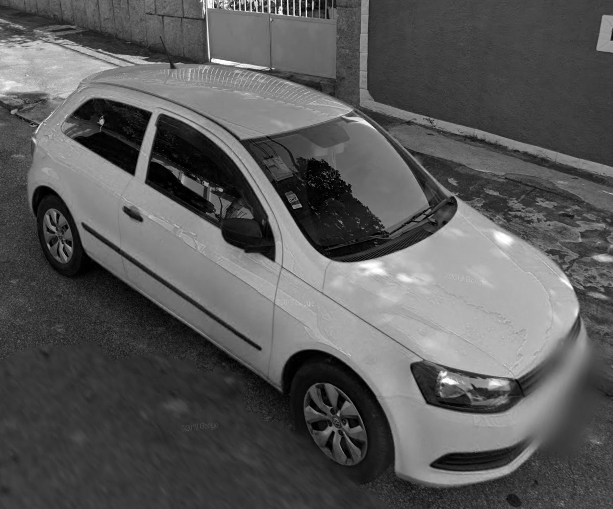car: (25, 60, 592, 486)
